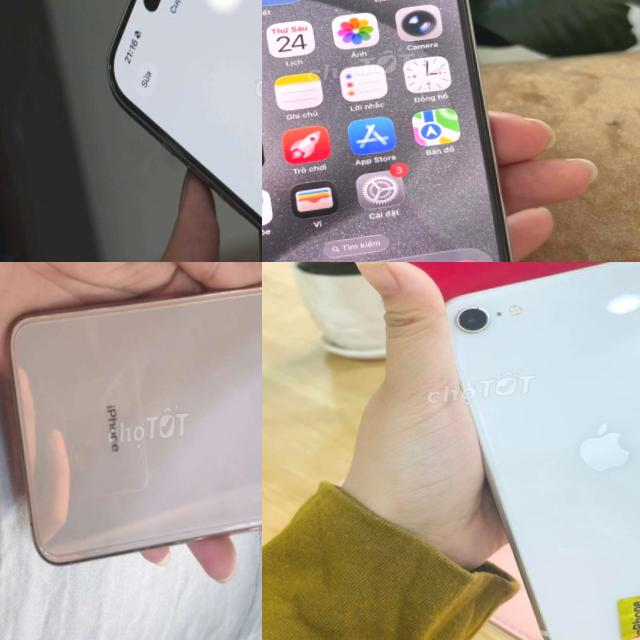gen_15: (262, 0, 537, 262), (78, 0, 262, 262)
gen_7_8: (439, 262, 640, 640)
gen_x_xs: (9, 284, 262, 562)
